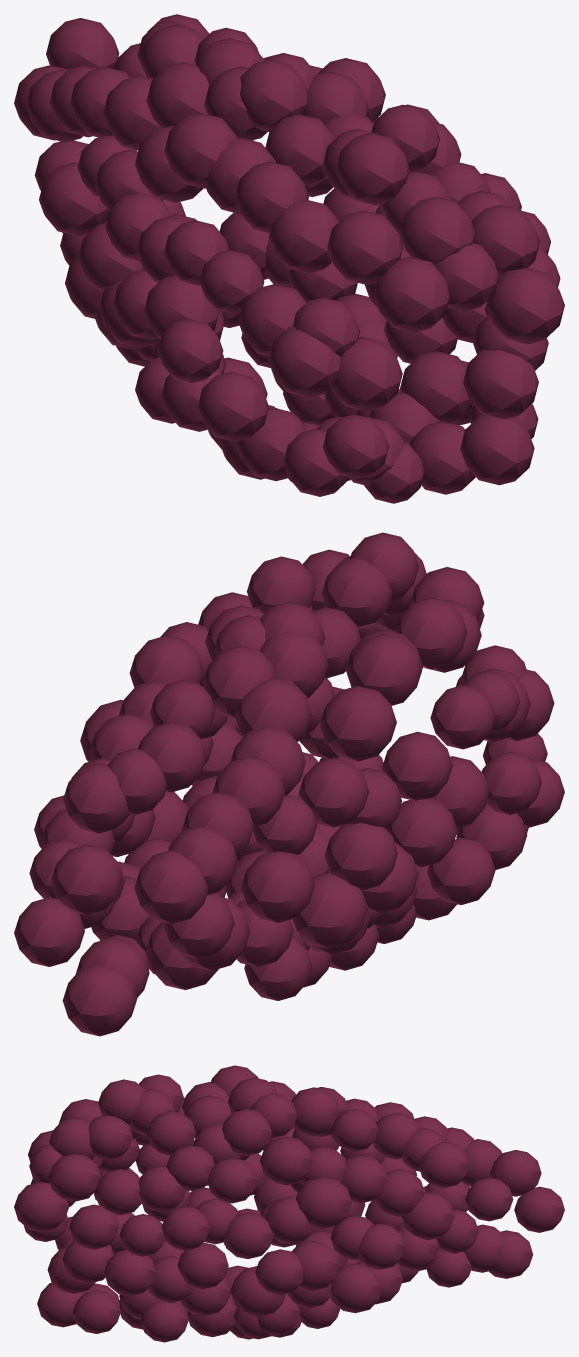
Rendered from berries.obj.
The picture shows the model from 3 angles, top to bottom: view 1: azimuth 30°, elevation 25°; view 2: azimuth 150°, elevation 25°; view 3: azimuth 270°, elevation 25°; orthographic projection. The views are drawn at different scales.
Visible parts, largest first — view 1: berries; view 2: berries; view 3: berries.
Boxes of the visible parts, left/top/right/bottom form: berries: left=14, top=14, right=564, bottom=503; berries: left=14, top=532, right=564, bottom=1036; berries: left=14, top=1065, right=564, bottom=1342.
Bounding box in the file's own units: 0.1024 × 0.1003 × 0.1988.
